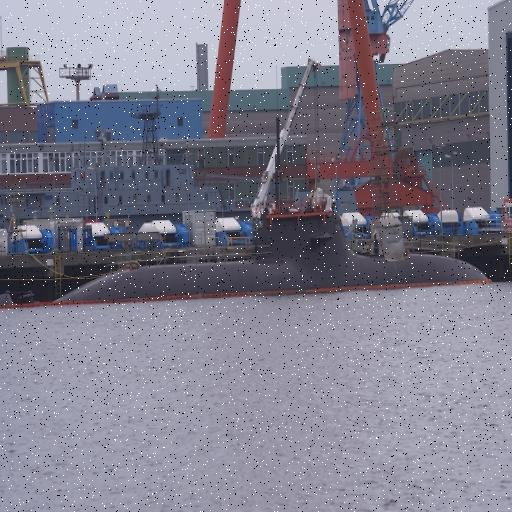submarine: (1, 211, 494, 311)
